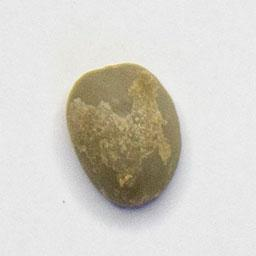premium: (63, 60, 185, 210)
